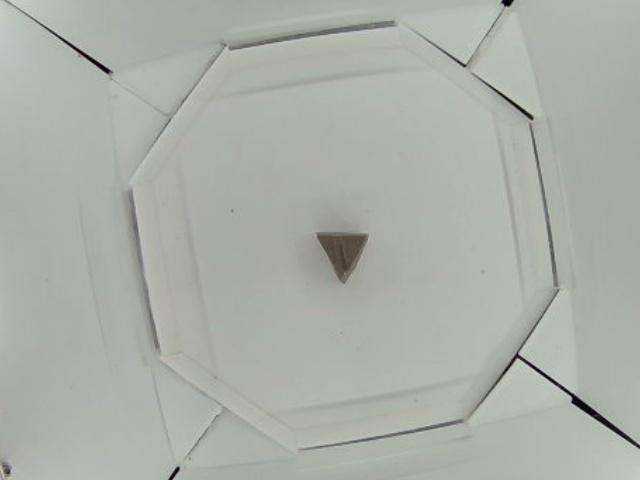China: (315, 230, 370, 280)
